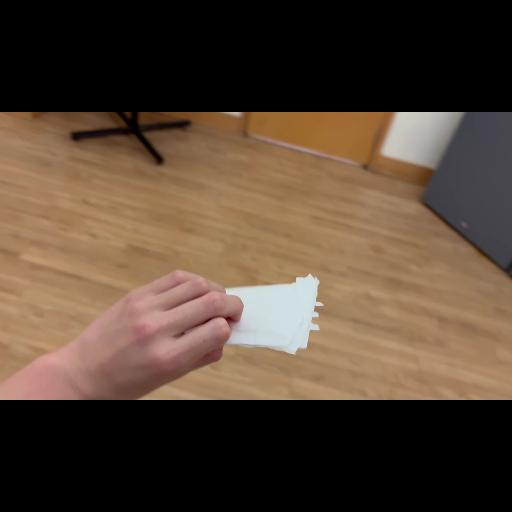napkin: (208, 273, 348, 359)
